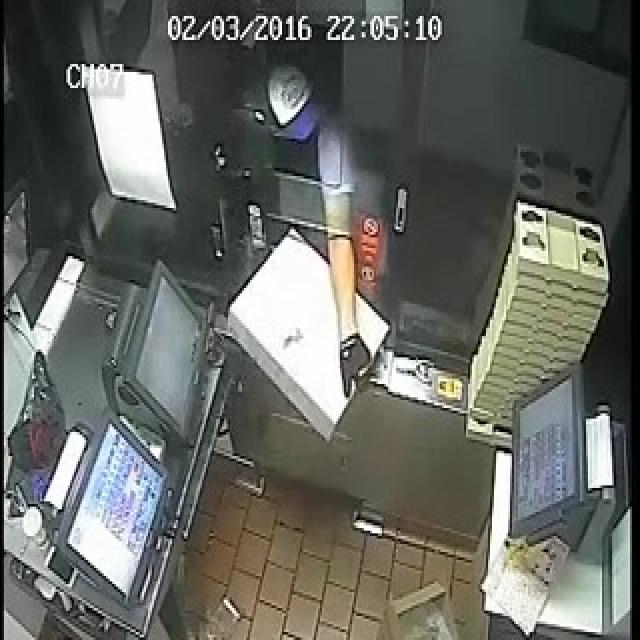thief: (262, 64, 374, 226)
